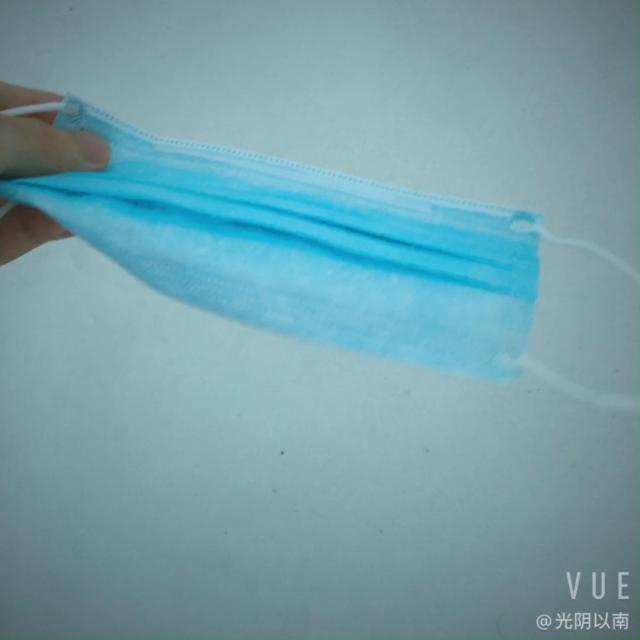non-organic waste: (11, 103, 544, 354)
